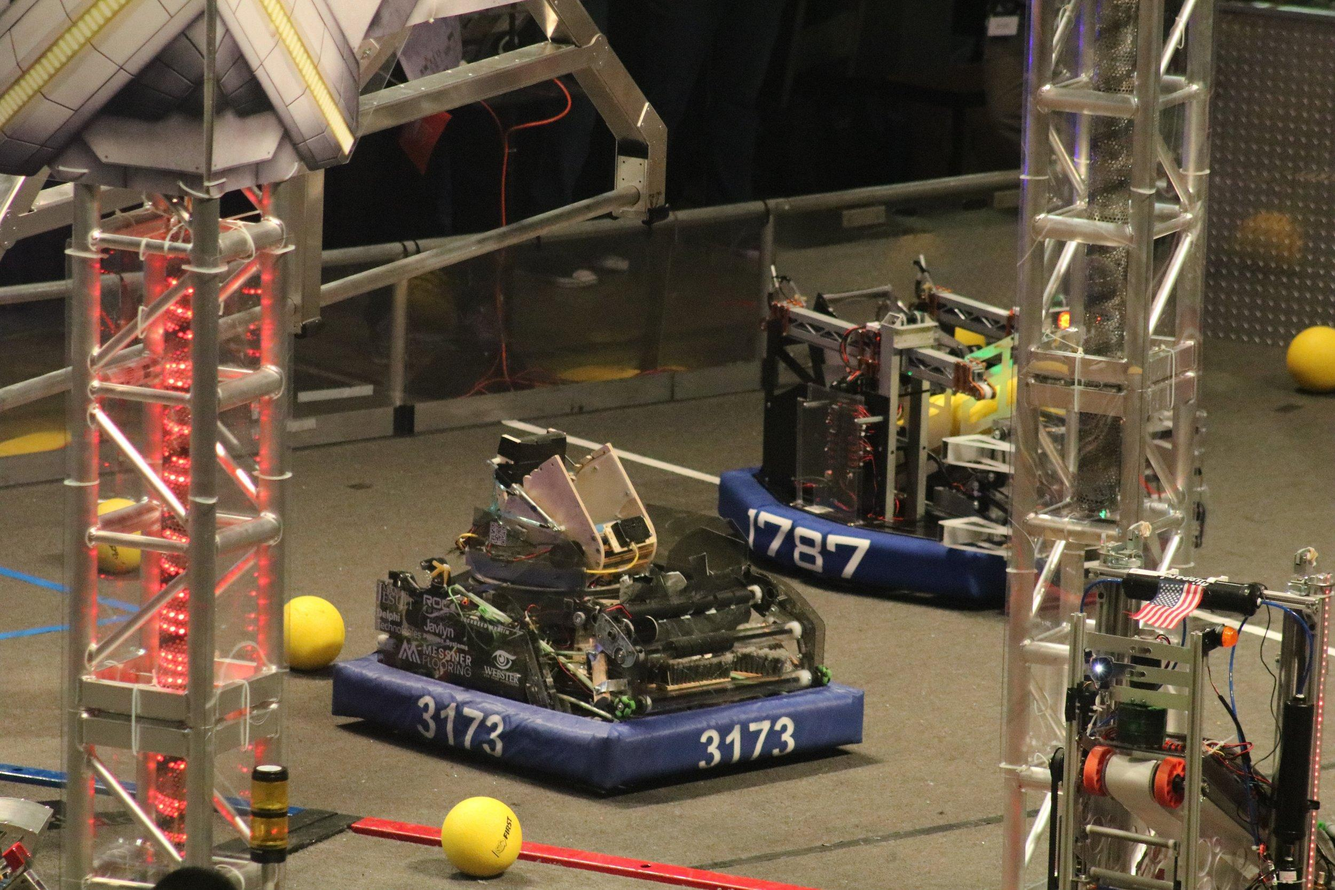robot: (322, 420, 873, 801)
